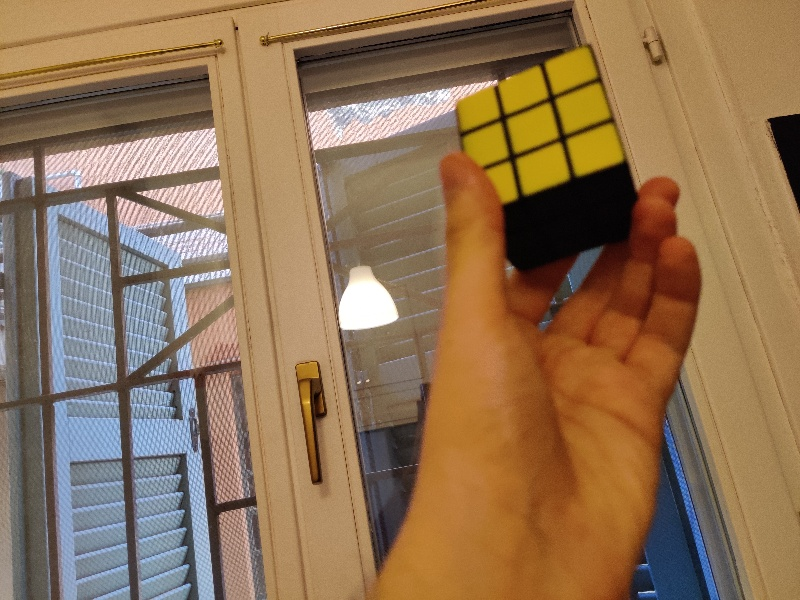rubik: (456, 45, 639, 270)
